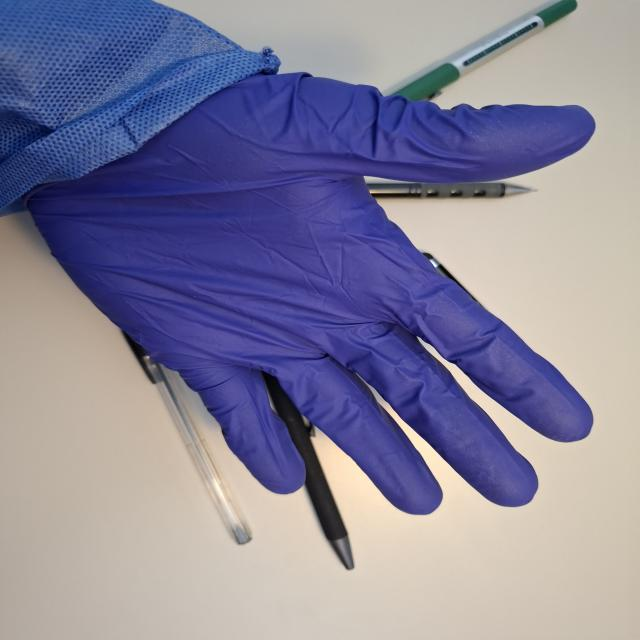glove_on: (17, 62, 600, 517)
